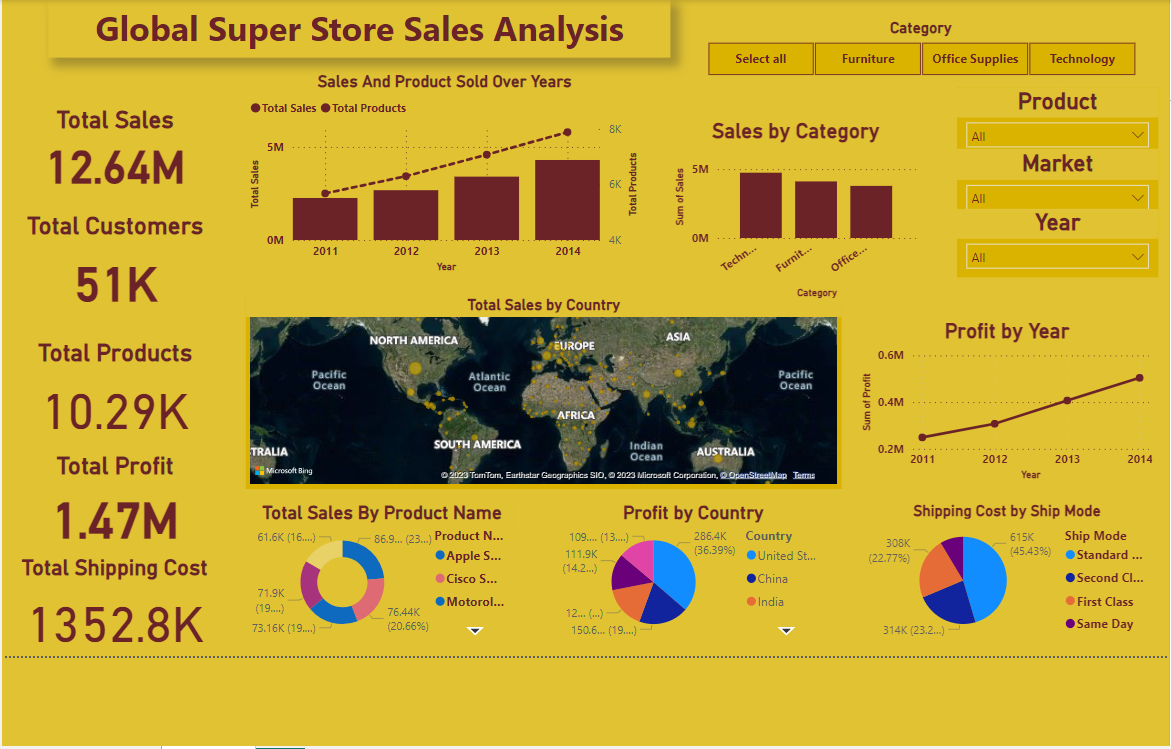

The dashboard page shown, as its layout file describes it:
{"tool":"powerbi","page":{"name":"Page 1","canvas":[1280,720],"ordinal":0},"visuals":[{"type":"card","title":"Total Sales","fields":{"Values":["Orders.Total Sales"]},"box":[16.5,115.2,215.3,94.6],"z":0},{"type":"card","title":"Total Customers","fields":{"Values":["Orders.Customer Count"]},"box":[16.5,231.7,215.3,117.9],"z":1000},{"type":"card","title":"Total Products","fields":{"Values":["Orders.Total Products"]},"box":[16.5,371.6,215.3,115.2],"z":2000},{"type":"card","title":"Total Profit","fields":{"Values":["Orders.Total Profit"]},"box":[16.5,494.9,215.3,108.3],"z":3000},{"type":"card","title":"Total Shipping Cost","fields":{"Values":["Orders.Total Shipping Cost"]},"box":[16.5,608.7,215.3,111.1],"z":4000},{"type":"lineClusteredColumnComboChart","title":"Sales And Product Sold Over Years","fields":{"Category":["Orders.Order Date.Variation.Date Hierarchy.Year","Orders.Order Date.Variation.Date Hierarchy.Quarter","Orders.Order Date.Variation.Date Hierarchy.Month","Orders.Order Date.Variation.Date Hierarchy.Day"],"Y":["Orders.Total Sales"],"Y2":["Orders.Total Products"]},"box":[267.4,78.1,436,224.9],"z":4001},{"type":"slicer","title":"Year","fields":{"Values":["Orders.Order Date.Variation.Date Hierarchy.Year","Orders.Order Date.Variation.Date Hierarchy.Quarter","Orders.Order Date.Variation.Date Hierarchy.Month","Orders.Order Date.Variation.Date Hierarchy.Day"]},"box":[1047.5,229,220.7,75.4],"z":4002},{"type":"slicer","title":"Product","fields":{"Values":["Orders.Product Name"]},"box":[1047.5,96,220.7,67.2],"z":4003},{"type":"slicer","title":"Market","fields":{"Values":["Orders.Market"]},"box":[1047.5,164.5,220.7,64.4],"z":4004},{"type":"slicer","title":"Category","fields":{"Values":["Orders.Category"]},"box":[748.6,20.6,518.3,68.6],"z":4005},{"type":"map","fields":{"Category":["Orders.Country"],"Size":["Orders.Total Sales"]},"box":[267.4,323.6,654,212.5],"z":4006},{"type":"donutChart","title":"Total Sales By Product Name ","fields":{"Category":["Orders.Product Name"],"Y":["Orders.Total Sales"]},"box":[267.4,549.8,298.9,154.9],"z":4007},{"type":"pieChart","title":" Profit by Country","fields":{"Category":["Orders.Country"],"Y":["Sum(Orders.Profit)"]},"box":[608.7,549.8,298.9,154.9],"z":4008},{"type":"columnChart","title":" Sales by Category","fields":{"Category":["Orders.Category"],"Y":["Sum(Orders.Sales)"]},"box":[733.5,130.2,274.2,201.5],"z":4009},{"type":"lineChart","title":"Profit by Year","fields":{"Category":["Orders.Order Date.Variation.Date Hierarchy.Year","Orders.Order Date.Variation.Date Hierarchy.Quarter","Orders.Order Date.Variation.Date Hierarchy.Month","Orders.Order Date.Variation.Date Hierarchy.Day"],"Y":["Sum(Orders.Profit)"]},"box":[937.8,349.6,329.1,182.3],"z":4010},{"type":"pieChart","title":" Shipping Cost by Ship Mode","fields":{"Y":["Orders.Total Shipping Cost"],"Category":["Orders.Ship Mode"]},"box":[937.8,549.8,329.1,154.9],"z":4011},{"type":"textbox","box":[50.7,0,682.8,63.1],"z":4012}]}

Visuals, with their boxes on the page's 1280x720 design canvas (x1, y1, x2, y2). These are canvas units, not pixel positions in the 1171x749 screenshot, which may show the page scaled, cropped or inside an application window:
"Total Sales" card: 16, 115, 232, 210
"Total Customers" card: 16, 232, 232, 350
"Total Products" card: 16, 372, 232, 487
"Total Profit" card: 16, 495, 232, 603
"Total Shipping Cost" card: 16, 609, 232, 720
"Sales And Product Sold Over Years" lineClusteredColumnComboChart: 267, 78, 703, 303
"Year" slicer: 1048, 229, 1268, 304
"Product" slicer: 1048, 96, 1268, 163
"Market" slicer: 1048, 164, 1268, 229
"Category" slicer: 749, 21, 1267, 89
map - Orders.Country x Orders.Total Sales: 267, 324, 921, 536
"Total Sales By Product Name " donutChart: 267, 550, 566, 705
" Profit by Country" pieChart: 609, 550, 908, 705
" Sales by Category" columnChart: 734, 130, 1008, 332
"Profit by Year" lineChart: 938, 350, 1267, 532
" Shipping Cost by Ship Mode" pieChart: 938, 550, 1267, 705
textbox: 51, 0, 734, 63
